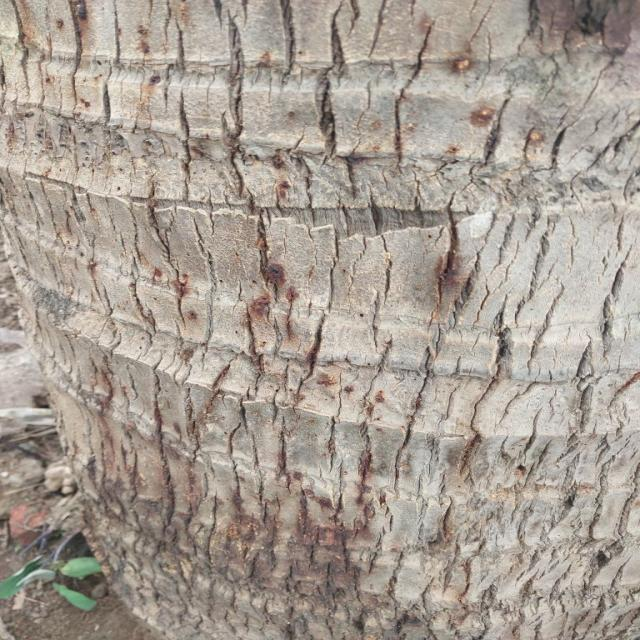stembleeding: (105, 459, 385, 590), (236, 262, 334, 342), (402, 239, 480, 307)
